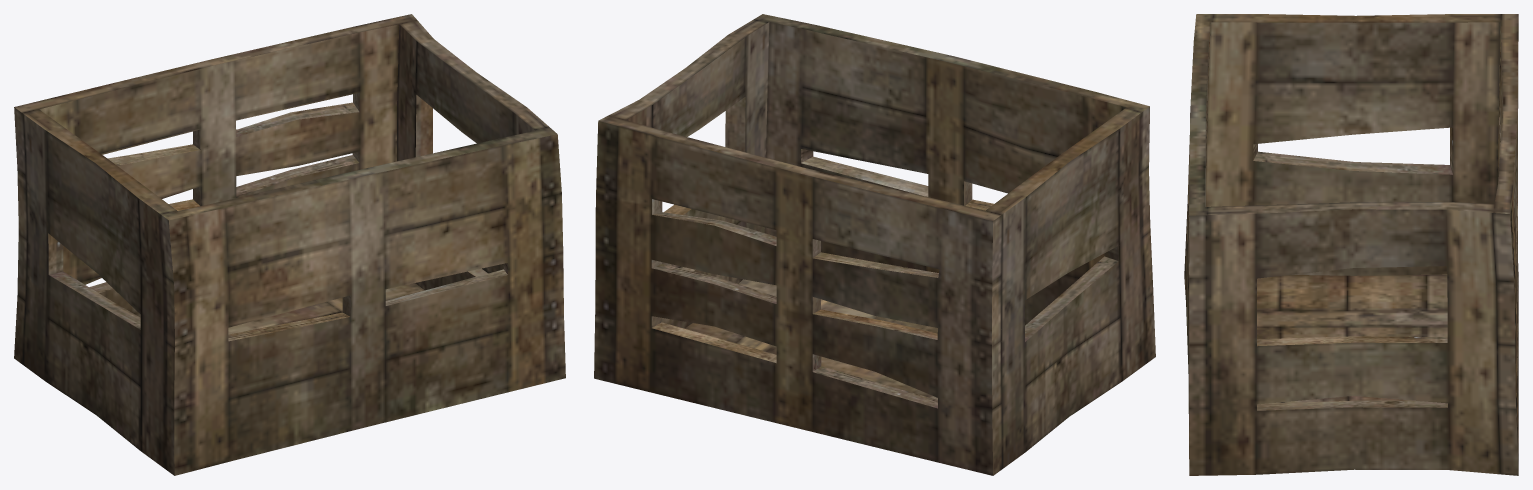
The picture shows the model from 3 angles, left to right: view 1: azimuth 30°, elevation 25°; view 2: azimuth 150°, elevation 25°; view 3: azimuth 270°, elevation 25°; orthographic projection. The views are drawn at different scales.
Visible parts, largest first — view 1: LV_Common_Object_A_WoodBox02_SM_PYO; view 2: LV_Common_Object_A_WoodBox02_SM_PYO; view 3: LV_Common_Object_A_WoodBox02_SM_PYO.
Boxes of the visible parts, bbox=[...] form: LV_Common_Object_A_WoodBox02_SM_PYO: bbox=[14, 14, 565, 475]; LV_Common_Object_A_WoodBox02_SM_PYO: bbox=[594, 14, 1155, 475]; LV_Common_Object_A_WoodBox02_SM_PYO: bbox=[1184, 14, 1518, 475].
Size of the model in its own units: 0.1571 by 0.0958 by 0.1109.
Materials: 1 (1 with a texture image).
